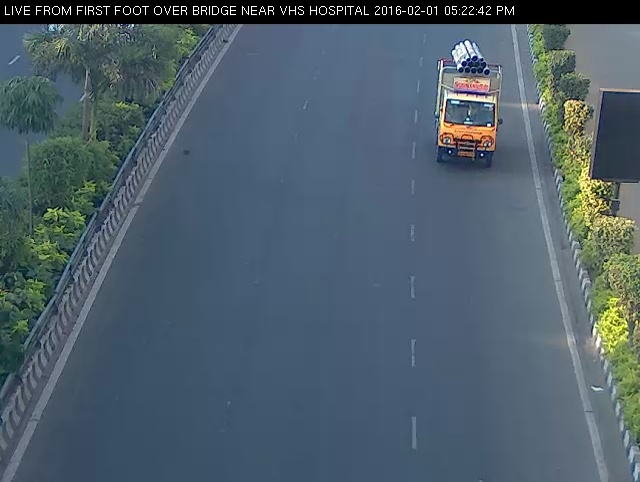Auto: (421, 36, 512, 177)
